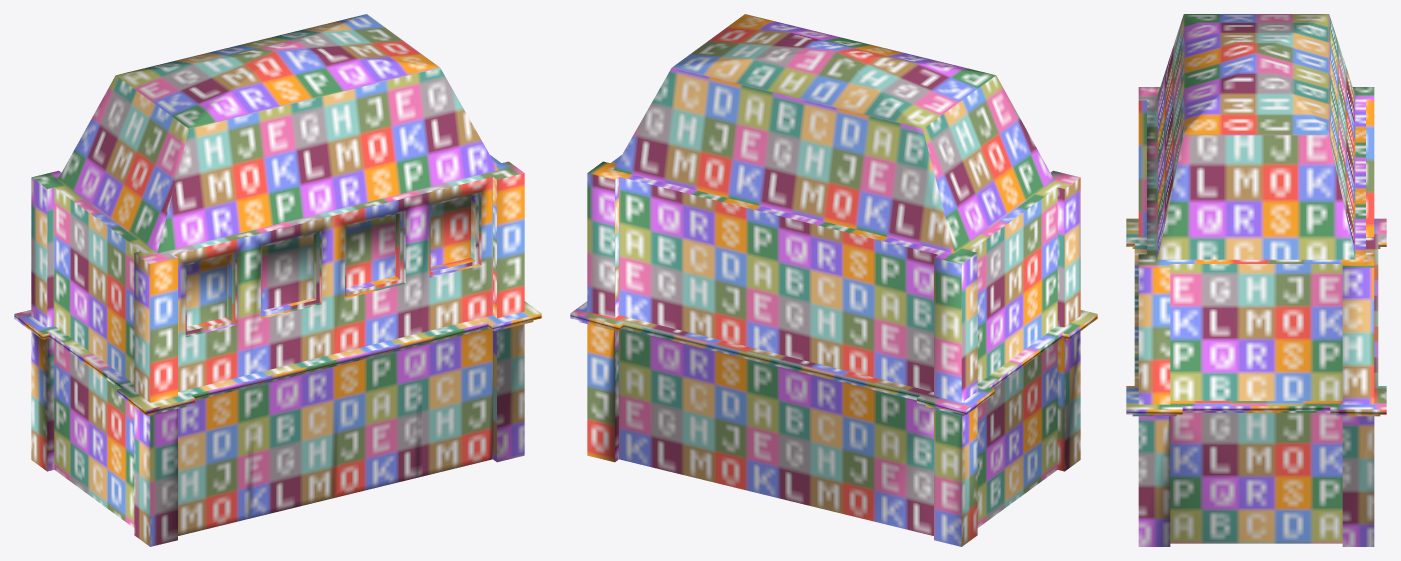
The model's file is building_01.obj.
The picture shows the model from 3 angles, left to right: view 1: azimuth 30°, elevation 25°; view 2: azimuth 150°, elevation 25°; view 3: azimuth 270°, elevation 25°; orthographic projection.
Parts seen in each view (by area): view 1: Cube1; view 2: Cube1; view 3: Cube1.
Part boxes in pixels (left/top/right/bottom): Cube1: left=14, top=14, right=541, bottom=546; Cube1: left=570, top=14, right=1097, bottom=546; Cube1: left=1126, top=14, right=1386, bottom=546.
Size of the model in its own units: 8.3 by 8.16 by 4.77.
